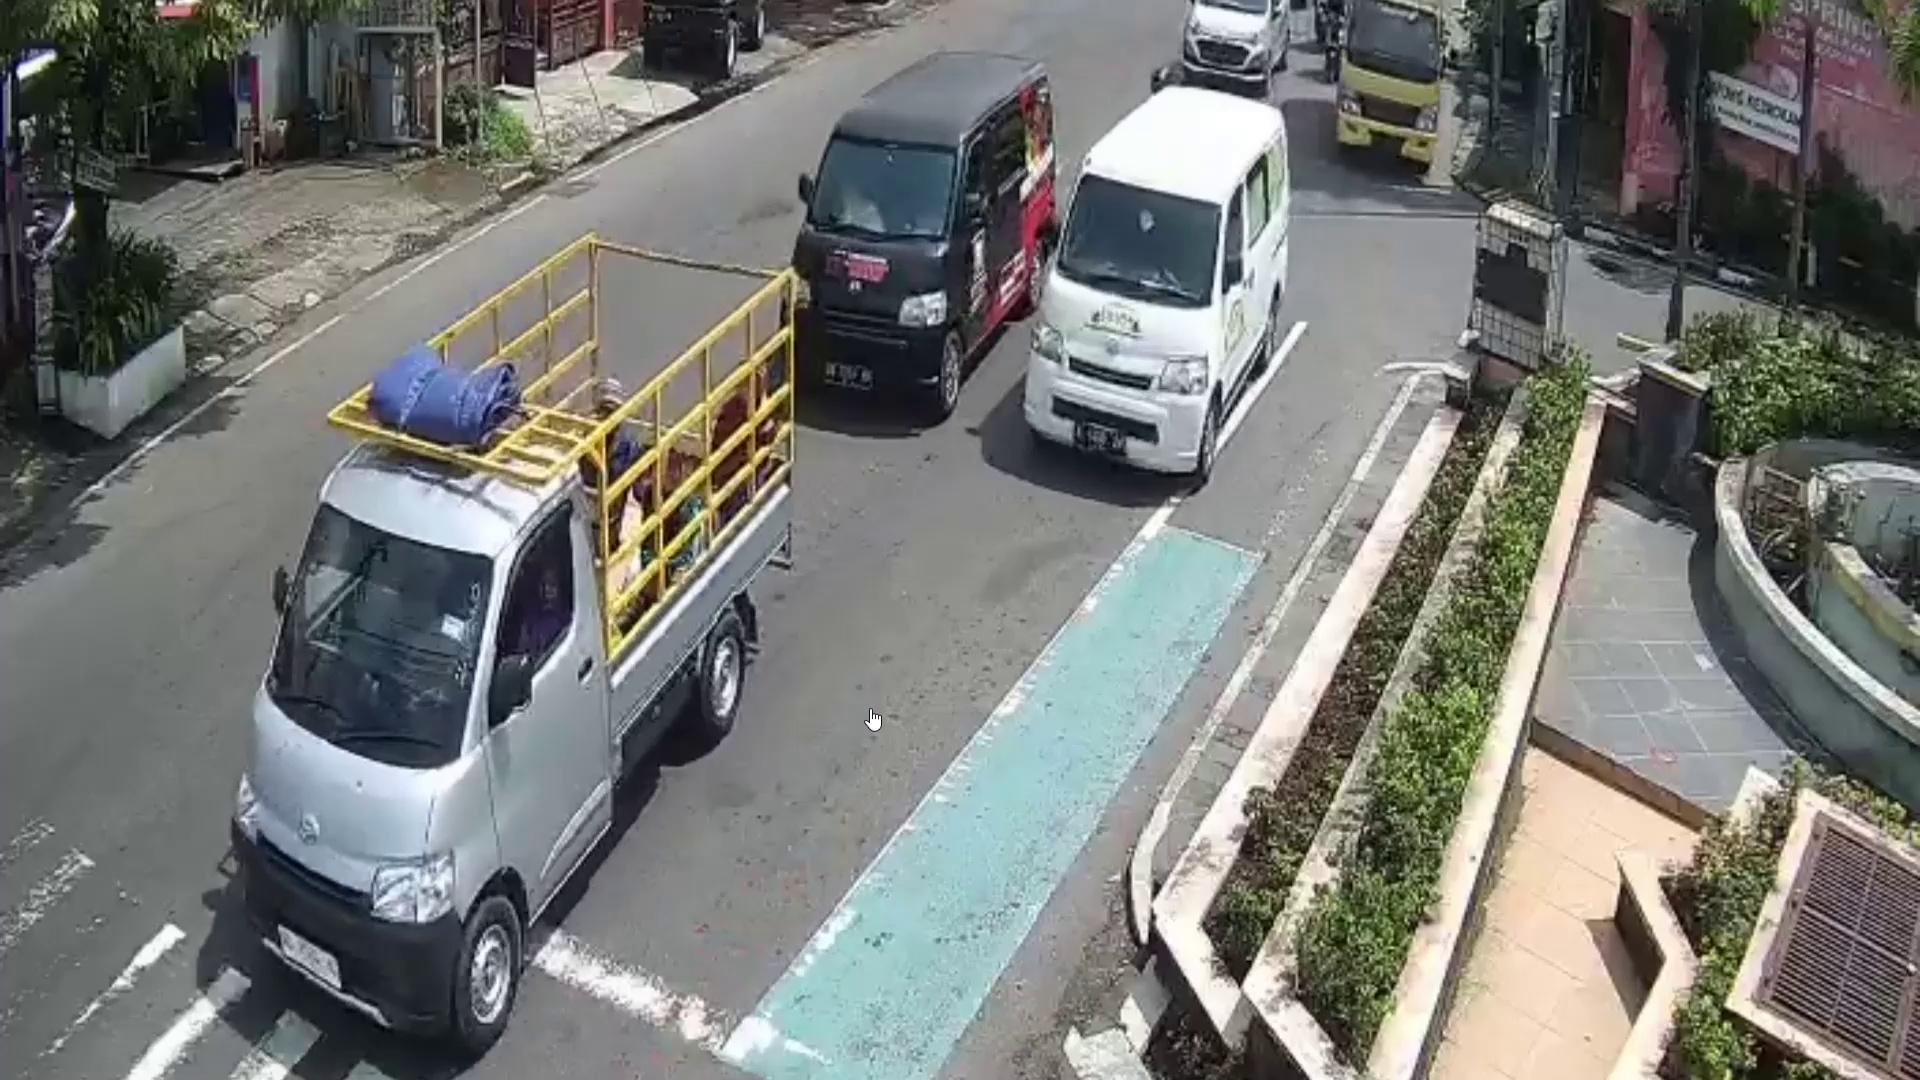car: (229, 435, 794, 1062), (1026, 87, 1287, 487), (781, 51, 1058, 417), (1185, 0, 1287, 87)
truck: (1335, 0, 1458, 179)
